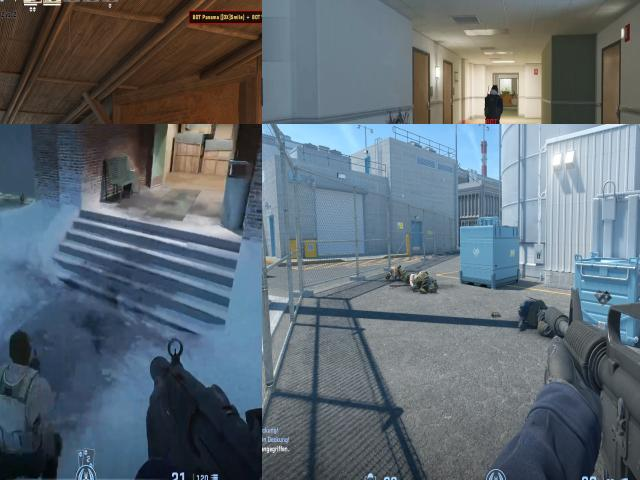Bomb: (490, 307, 501, 321)
CT: (481, 81, 503, 124)
CT-Head: (487, 83, 500, 99)
Dead: (513, 295, 569, 338), (403, 277, 437, 296), (385, 263, 412, 281), (414, 268, 437, 284)
T: (0, 359, 62, 455)
T-Head: (5, 330, 33, 369)
